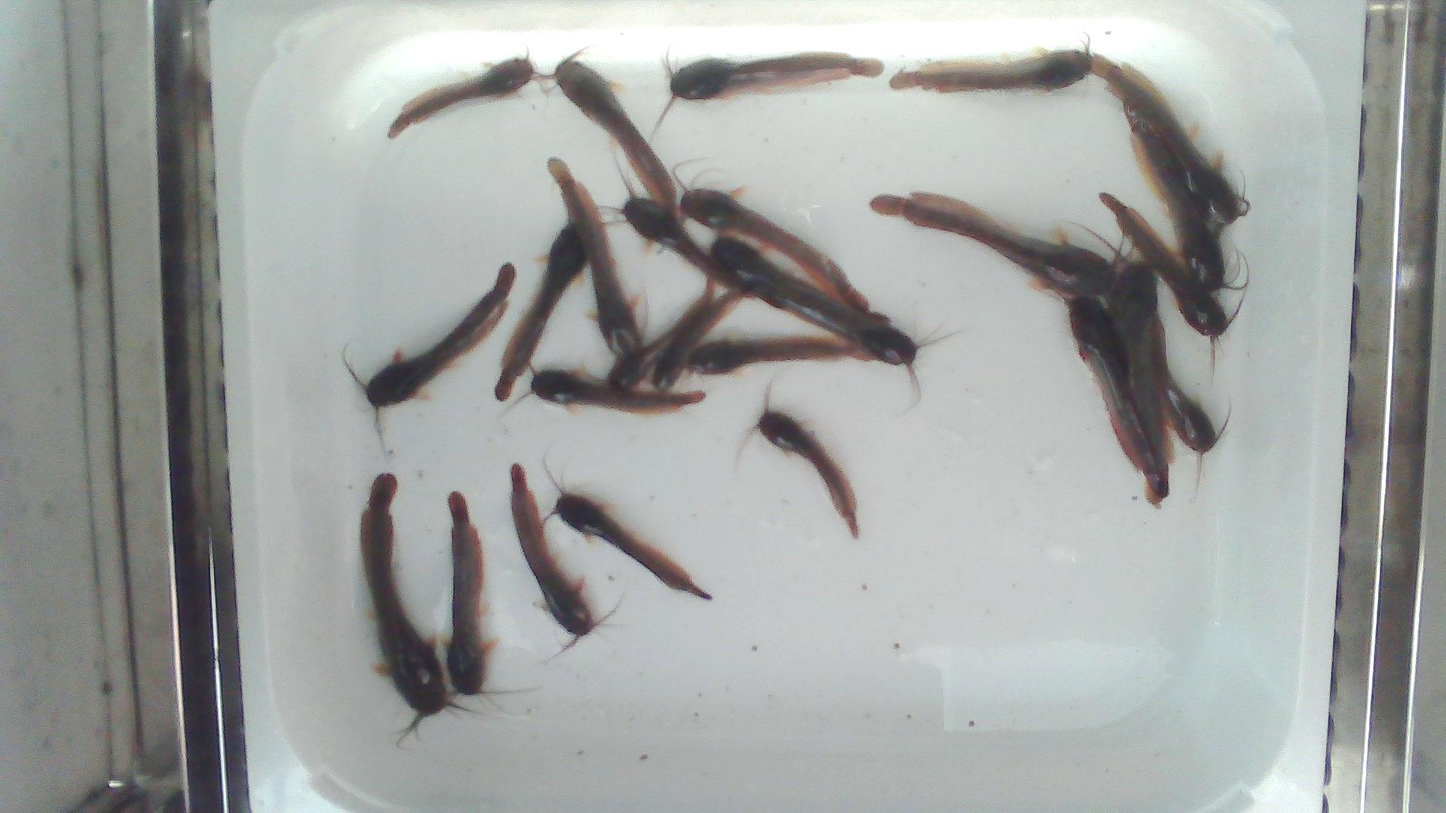lele: (671, 156, 890, 327), (342, 263, 516, 455), (1088, 52, 1253, 238), (361, 473, 476, 737), (744, 275, 960, 413), (1099, 189, 1245, 385), (869, 191, 1124, 301), (1075, 221, 1178, 467), (1122, 102, 1250, 295), (540, 457, 712, 599), (598, 156, 755, 298), (548, 44, 678, 215), (650, 45, 883, 138), (1065, 298, 1169, 504), (735, 377, 859, 539), (510, 463, 608, 650), (549, 160, 642, 355), (496, 221, 587, 399), (1151, 316, 1232, 505), (710, 234, 877, 324), (387, 47, 552, 138), (607, 275, 715, 393), (499, 363, 703, 418), (891, 42, 1093, 91), (446, 492, 491, 695), (652, 290, 743, 389), (688, 336, 871, 374)
